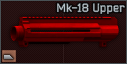Mk-18 .338 LM upper receiver: (0, 0, 127, 64)
